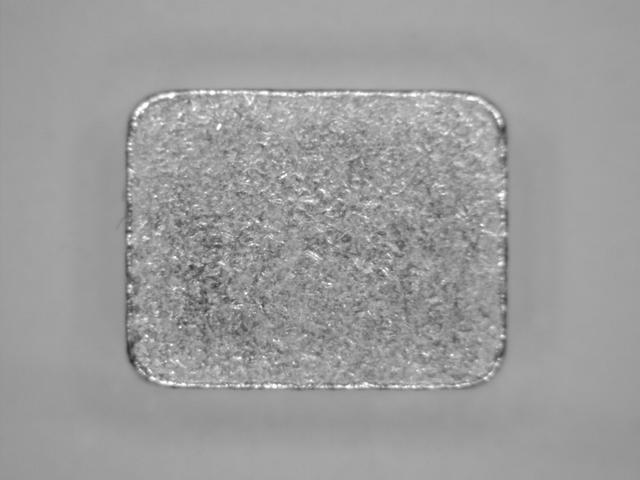ok: (120, 85, 517, 398)
